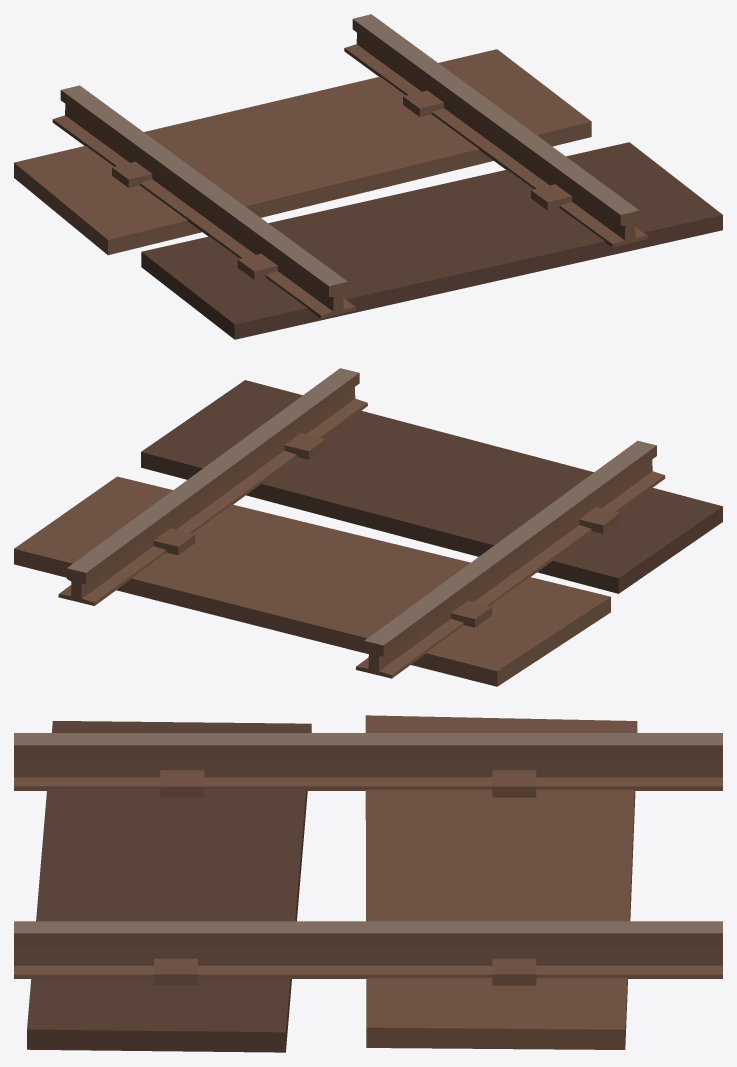
Rendered from Mines Car Track 1M.glb.
3 renders of one model, top to bottom at view 1: azimuth 30°, elevation 25°; view 2: azimuth 150°, elevation 25°; view 3: azimuth 270°, elevation 25°, orthographic. The views are drawn at different scales.
Parts seen in each view (by area): view 1: Mines Car Track 1M v1; view 2: Mines Car Track 1M v1; view 3: Mines Car Track 1M v1.
Part boxes in pixels (bbox=[...]): Mines Car Track 1M v1: bbox=[14, 14, 722, 339]; Mines Car Track 1M v1: bbox=[14, 368, 722, 686]; Mines Car Track 1M v1: bbox=[14, 715, 722, 1052].
Size of what is drawn, in the model's own units: 1.05 by 0.092 by 0.9952.
1 material, 1 textured.
